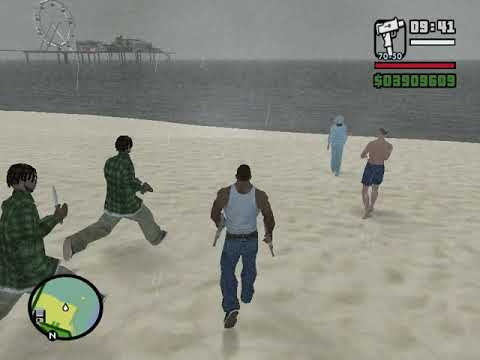person: (2, 154, 64, 326), (216, 165, 271, 332), (99, 129, 155, 257), (354, 124, 392, 219), (323, 112, 349, 185)
